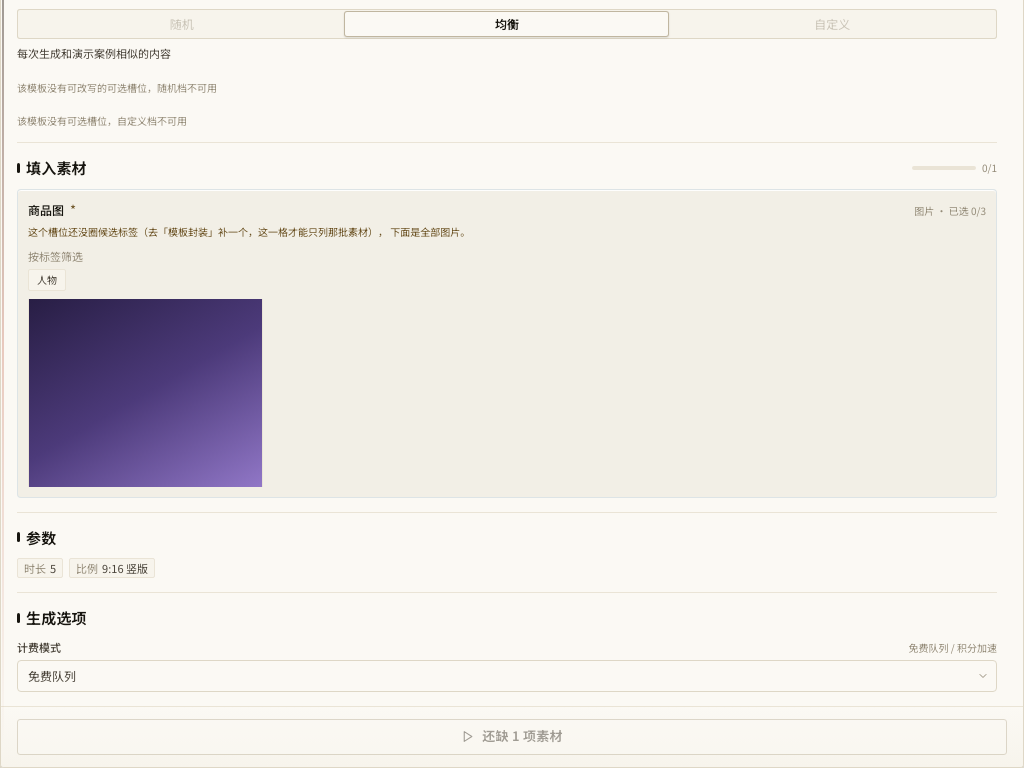
Test: 模板库：生成前的二次确认 › 取消确认框不会提交
The image size is (1024, 768).
(page scrolled)
Click the button titled "商品图.png".
click(145, 393)  # box [28,276,262,510]
(page scrolled)
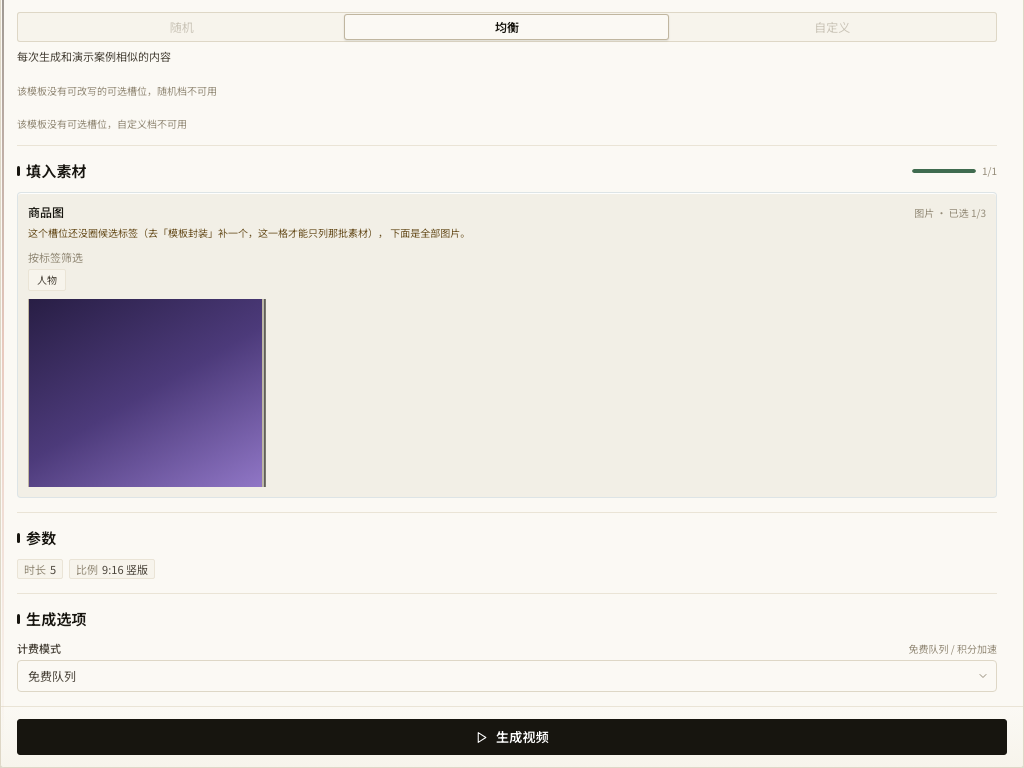
Click the button "生成视频".
click(512, 737)  # box [17,719,1007,755]
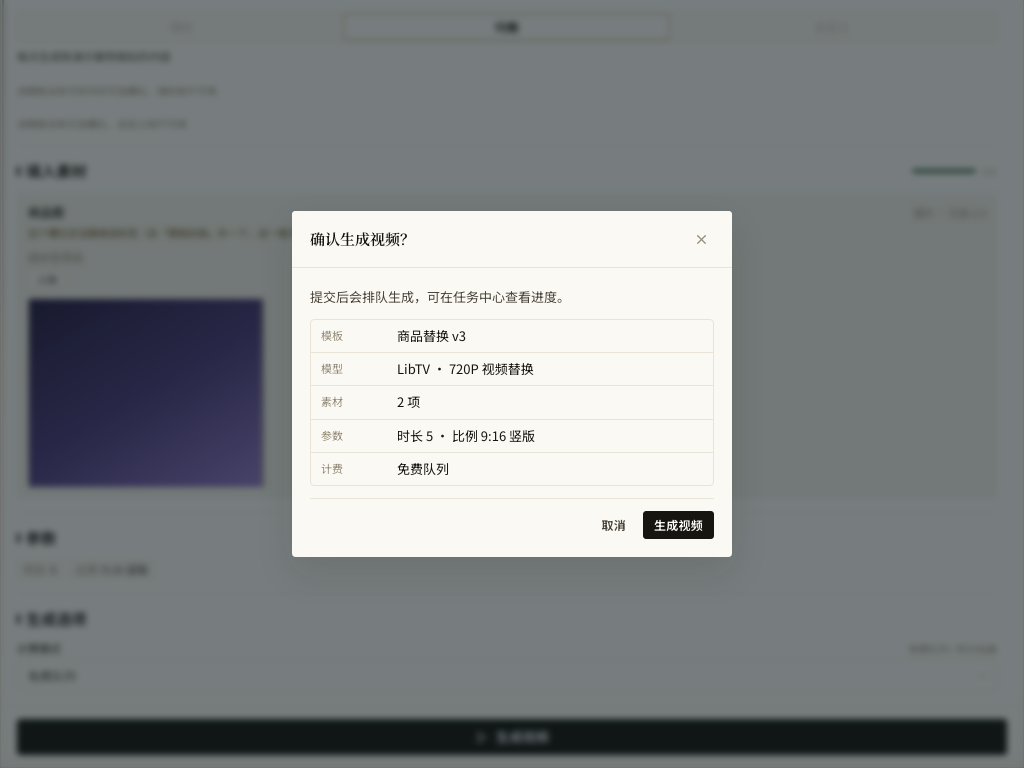
Click the button "取消".
click(614, 525)  # box [590,511,637,539]
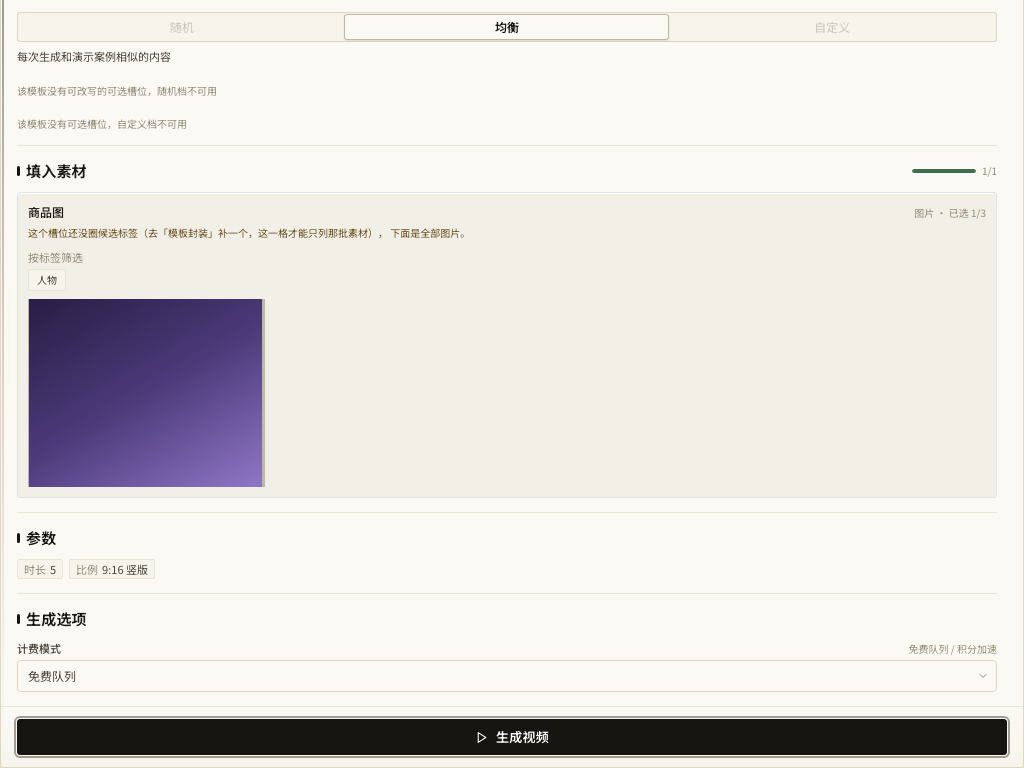
Check: the dialog is gone
